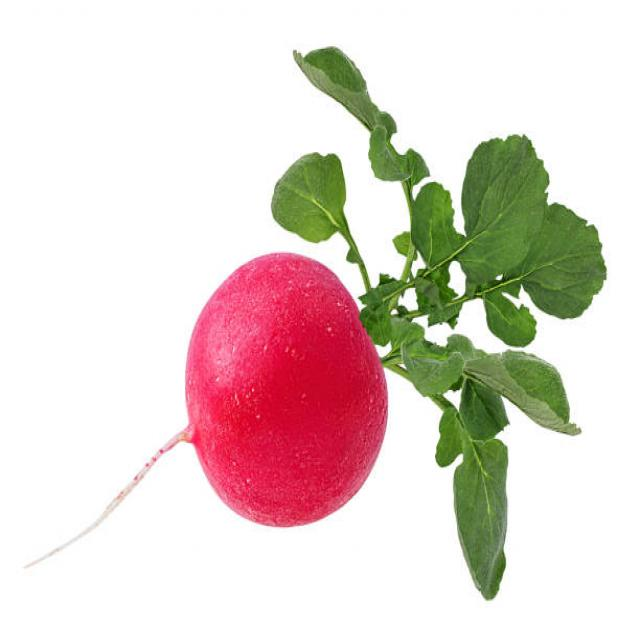Spinach bagged/loose: (178, 221, 417, 526)
